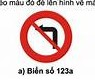No_turn_left: (19, 10, 74, 64)
